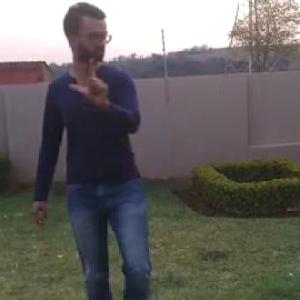land_hand: (70, 50, 112, 107)
